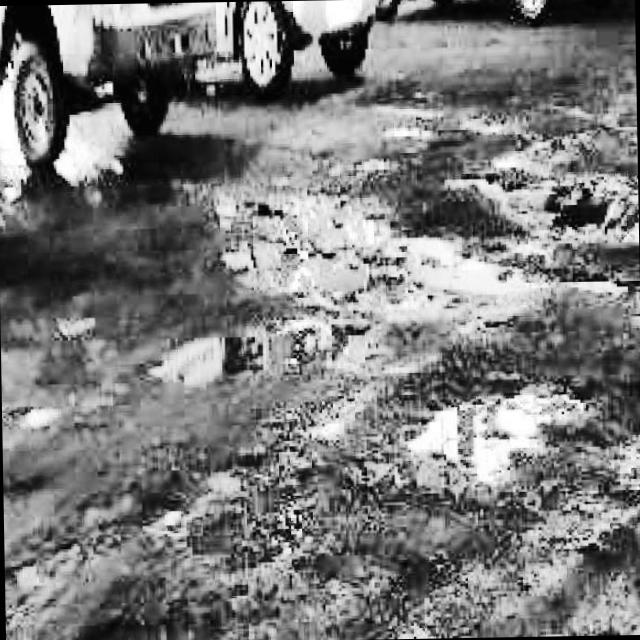Pothole: (197, 168, 640, 329), (462, 136, 639, 253)
